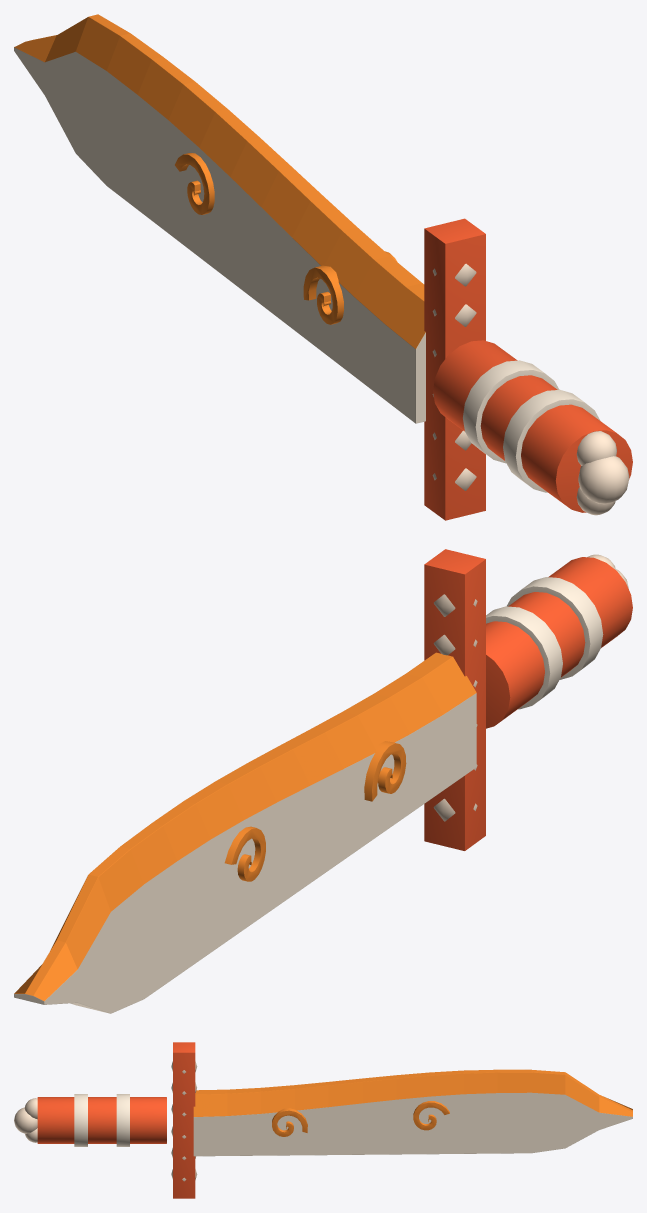
Rendered from Sword_SootglassFalchion.glb.
3 renders of one model, top to bottom at view 1: azimuth 30°, elevation 25°; view 2: azimuth 150°, elevation 25°; view 3: azimuth 270°, elevation 25°, orthographic. The views are drawn at different scales.
Parts seen in each view (by area): view 1: Sword_SootglassFalchion; view 2: Sword_SootglassFalchion; view 3: Sword_SootglassFalchion.
Boxes of the visible parts, x1,y1,x2,y2 form: Sword_SootglassFalchion: (14,14,632,520); Sword_SootglassFalchion: (14,549,632,1013); Sword_SootglassFalchion: (14,1042,632,1198).
Size of the model in its own units: 0.086 by 0.26 by 1.
Materials: 1 (1 with a texture image).
